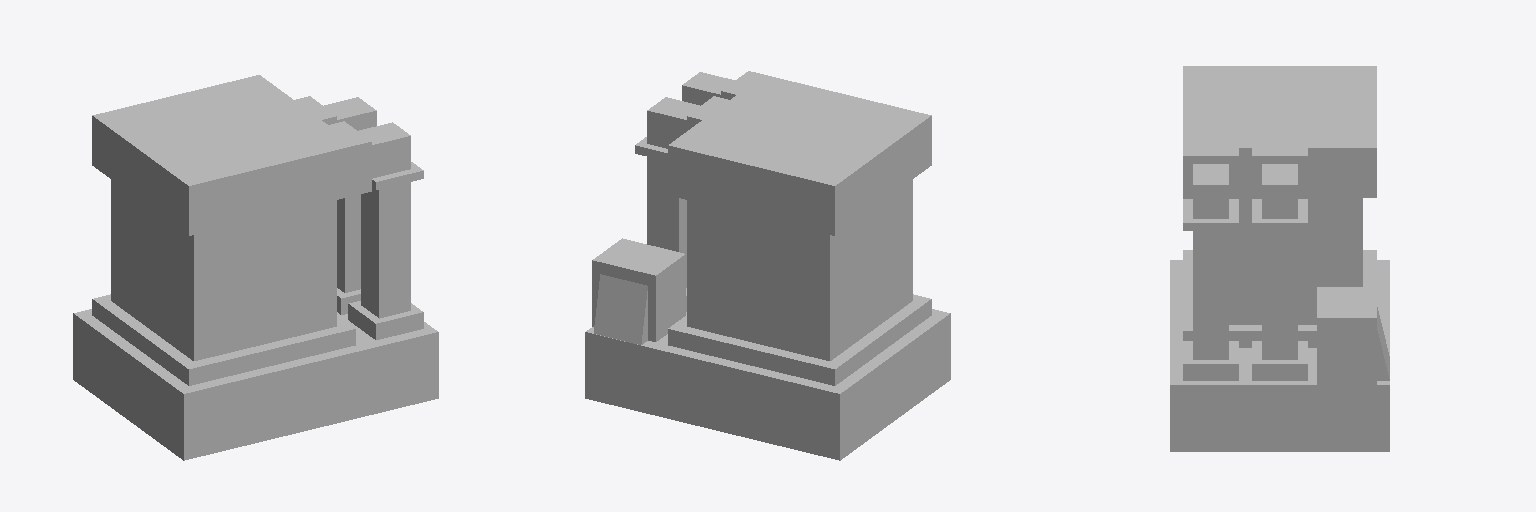
Rendered from chemicalvat_mirrored.obj.
3 views of the same model, side by side, from view 1: azimuth 30°, elevation 25°; view 2: azimuth 150°, elevation 25°; view 3: azimuth 270°, elevation 25° (orthographic).
Parts seen in each view (by area): view 1: cube; view 2: cube; view 3: cube.
Part boxes in pixels (x1,y1,x2,y2): cube: (73, 75, 438, 460); cube: (585, 71, 950, 460); cube: (1170, 66, 1389, 451).
Bounding box in the file's own units: 4 × 4 × 3.